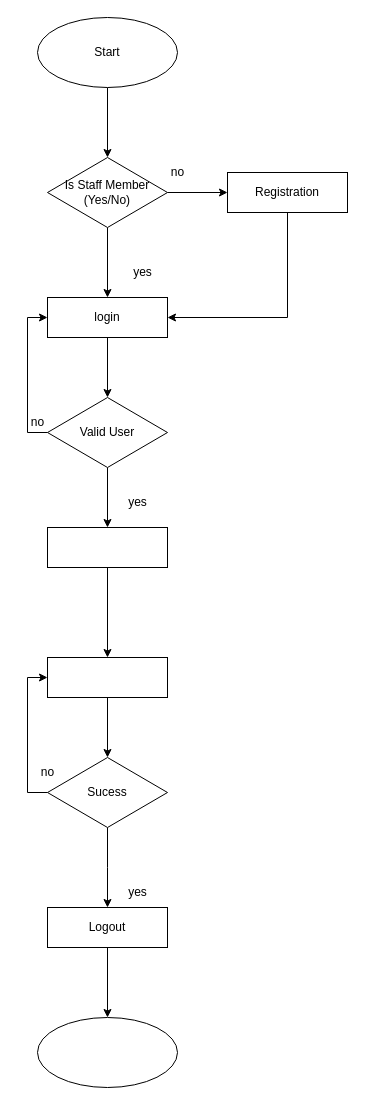
Image size: 365x1105. Some labels were removed from this diagram. The centre of each missing label's shape, as x and y in pixels:
Manages Customer account and more: point (107, 677)
Redirect to Admin Dashboard: point (107, 547)
Stop: point (107, 1052)
